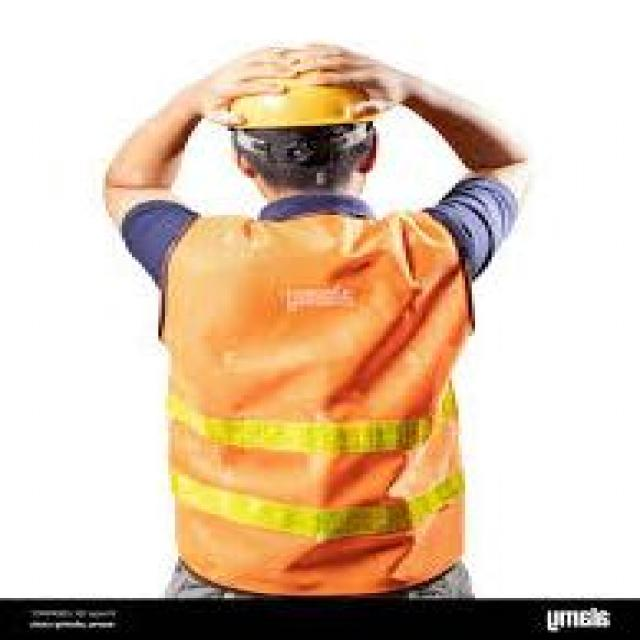Reflective-Jacket: (146, 193, 478, 603)
Safety-Helmet: (184, 34, 416, 138)
